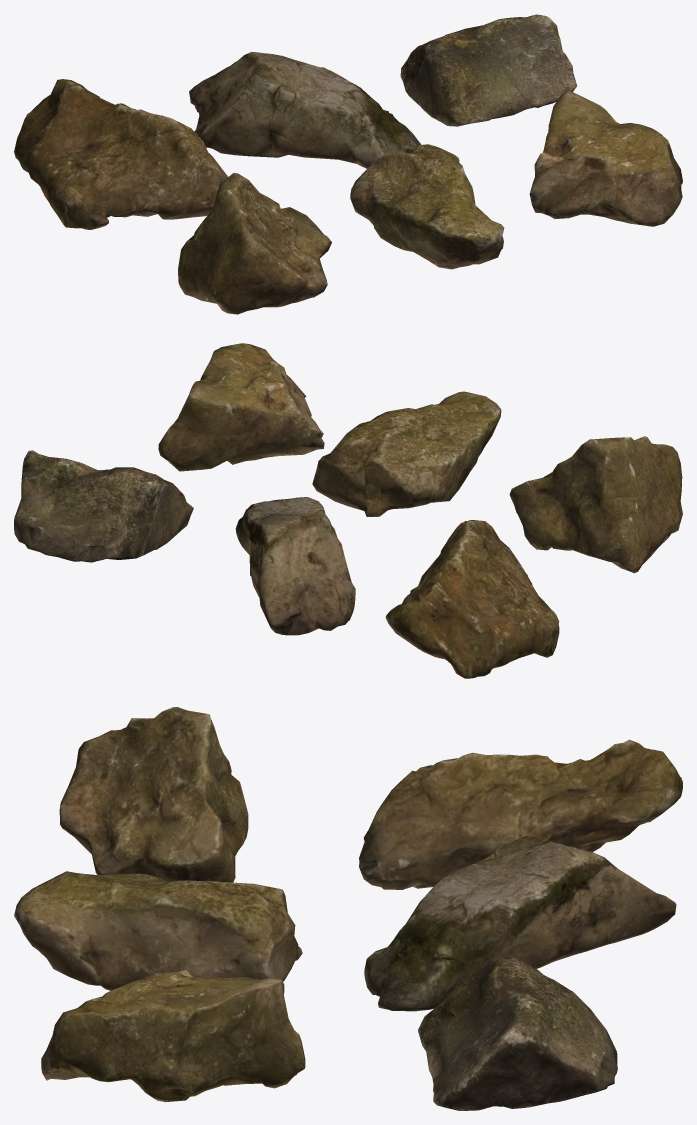
The model's file is rock_moss_set_01.glb.
3 renders of one model, top to bottom at view 1: azimuth 30°, elevation 25°; view 2: azimuth 150°, elevation 25°; view 3: azimuth 270°, elevation 25°, orthographic. The views are drawn at different scales.
Visible parts, largest first — view 1: rock_moss_set_01_rock01; view 2: rock_moss_set_01_rock01; view 3: rock_moss_set_01_rock01.
Boxes of the visible parts, x1=… form: rock_moss_set_01_rock01: x1=14, y1=14, x2=682, y2=314; rock_moss_set_01_rock01: x1=14, y1=343, x2=682, y2=678; rock_moss_set_01_rock01: x1=14, y1=707, x2=682, y2=1110.
Size of the model in its own units: 8 by 1.76 by 6.94.
Materials: 1 (1 with a texture image).
